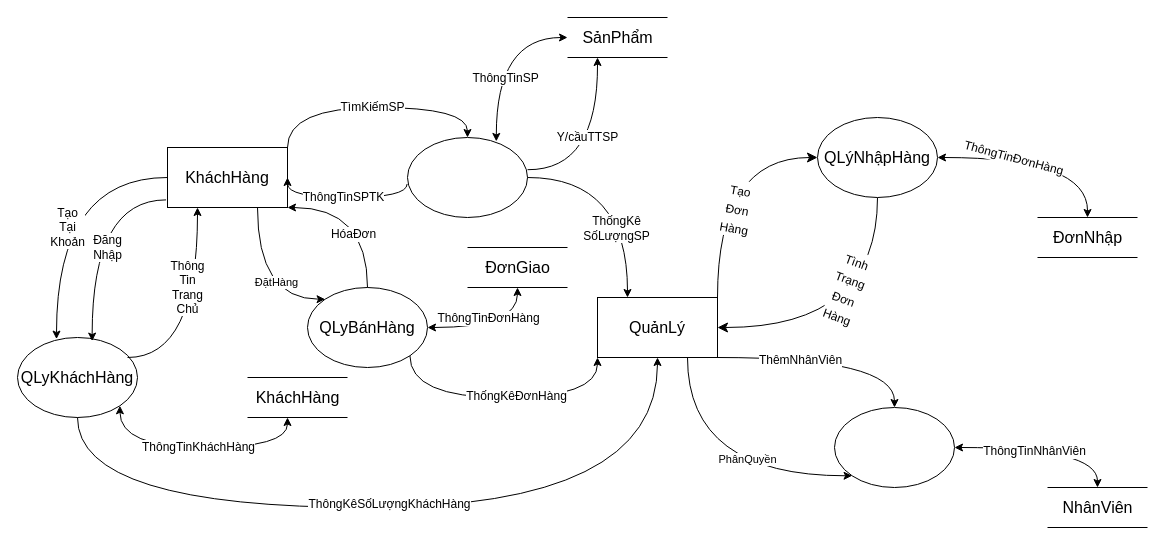
This 1165x545 diagram has some shape labels left out. The centre of each missing label's shape, as x and y in pixels:
"QLýNhânViên" goes at point 894,447.
"QLýSP" goes at point 467,177.
